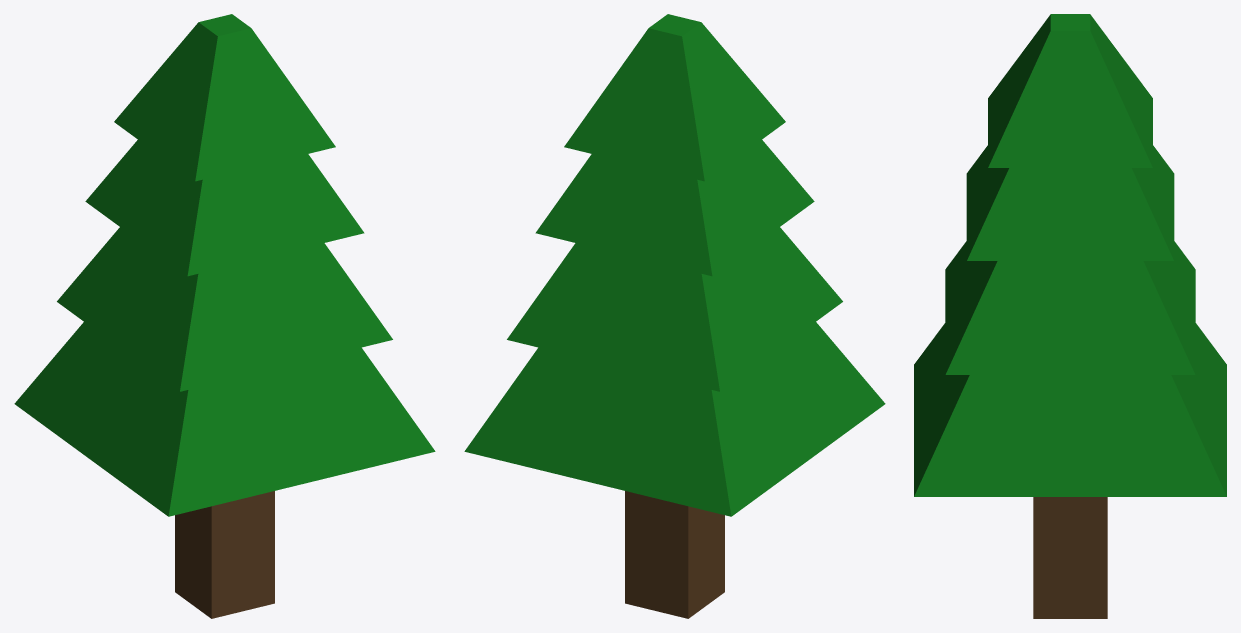
The model's file is Arvore2.fbx.
The picture shows the model from 3 angles, left to right: view 1: azimuth 30°, elevation 25°; view 2: azimuth 150°, elevation 25°; view 3: azimuth 270°, elevation 25°; orthographic projection.
Visible parts, largest first — view 1: Arvore1; view 2: Arvore1; view 3: Arvore1.
Boxes of the visible parts, box(x1,y1,x2,y2) form: Arvore1: box(14, 14, 435, 618); Arvore1: box(464, 14, 885, 618); Arvore1: box(914, 14, 1226, 618).
Bounding box in the file's own units: 293 × 600 × 293.
